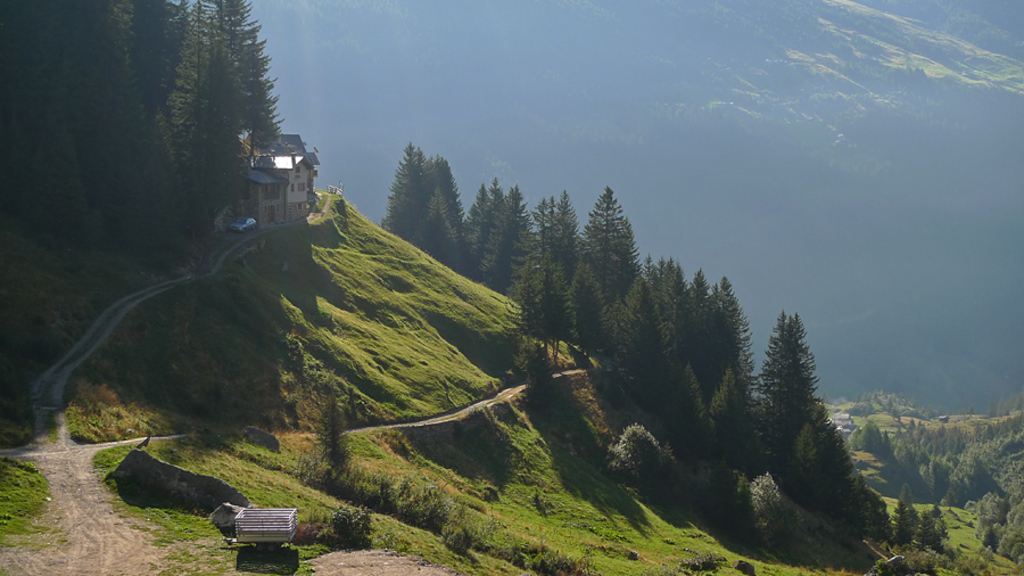Tree: (0, 0, 1022, 574), (580, 180, 645, 302)
